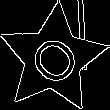O_SE: (20, 26, 86, 92)
